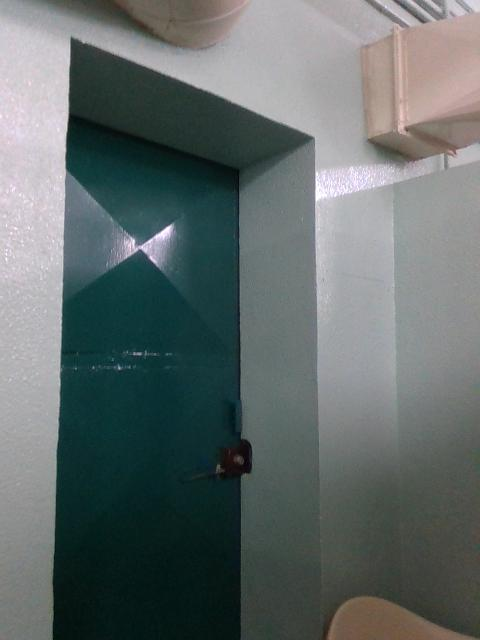door: (54, 113, 254, 640)
